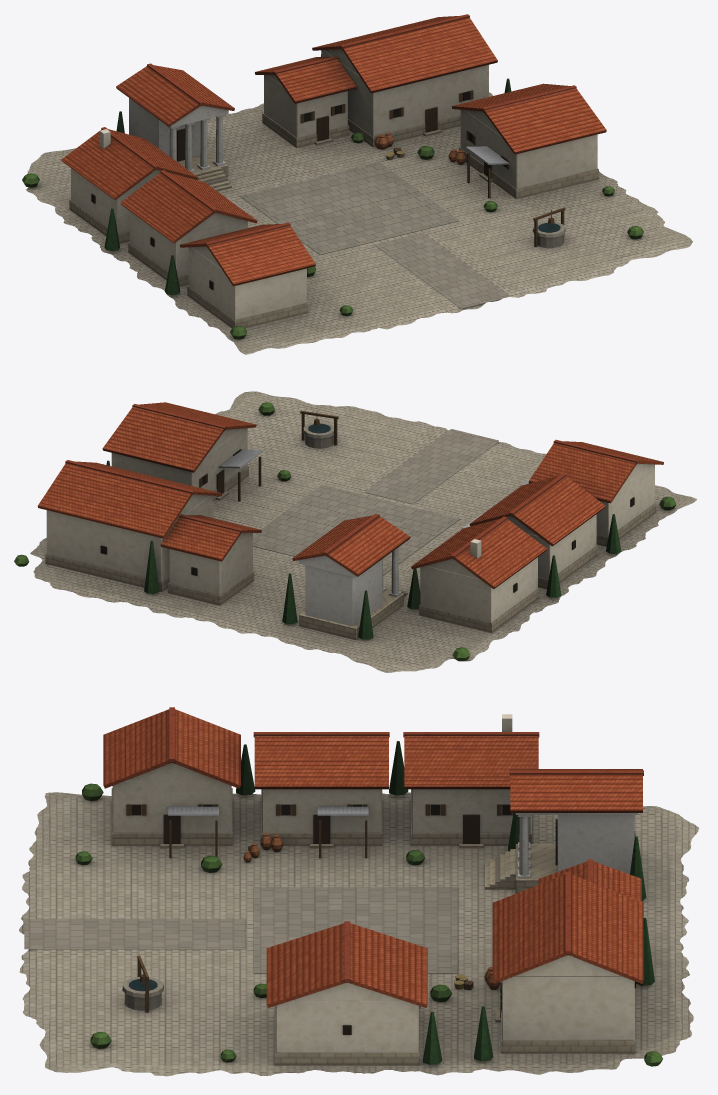
Rendered from classical-town-small-a-edad41d6.glb.
3 renders of one model, top to bottom at view 1: azimuth 30°, elevation 25°; view 2: azimuth 150°, elevation 25°; view 3: azimuth 270°, elevation 25°, orthographic. The views are drawn at different scales.
Parts seen in each view (by area): view 1: LOD0; view 2: LOD0; view 3: LOD0.
Boxes of the visible parts, left/top/right/bottom form: LOD0: left=22, top=14, right=692, bottom=354; LOD0: left=14, top=391, right=696, bottom=672; LOD0: left=19, top=707, right=699, bottom=1076.
Size of what is drawn, in the model's own units: 4.02 by 0.714 by 4.06.
Materials: 3 (3 with a texture image).
